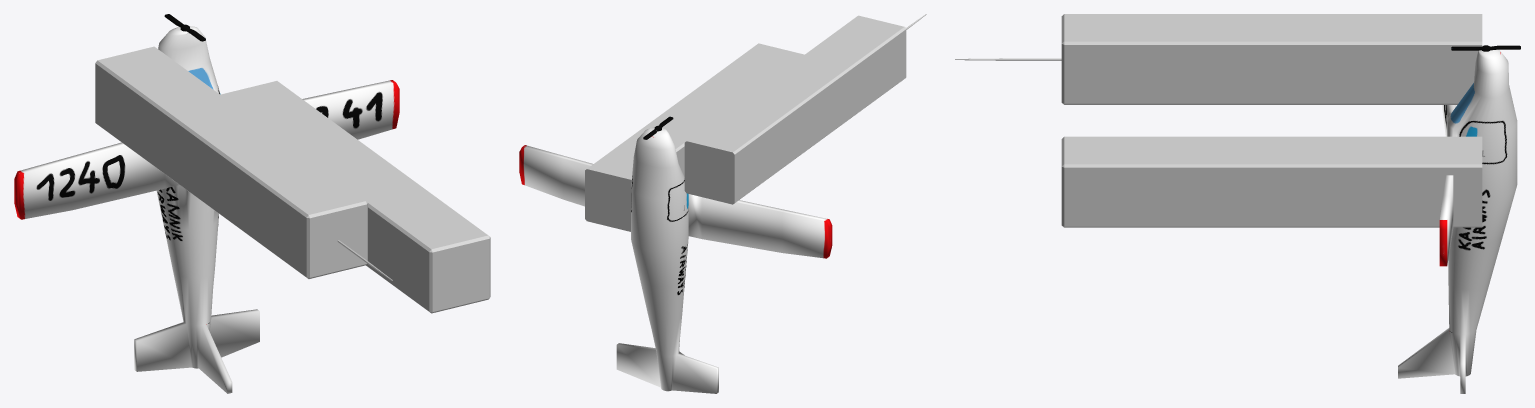
3 renders of one model, left to right at view 1: azimuth 30°, elevation 25°; view 2: azimuth 150°, elevation 25°; view 3: azimuth 270°, elevation 25°, orthographic. The views are drawn at different scales.
Visible parts, largest first — view 1: Cube.001, Plane, Cube; view 2: Plane, Cube.001, Cube; view 3: Cube, Cube.001, Plane.
Boxes of the visible parts, x1=… form: Cube.001: x1=95, y1=46, x2=392, y2=280; Plane: x1=14, y1=14, x2=399, y2=393; Cube: x1=220, y1=81, x2=490, y2=313; Plane: x1=519, y1=116, x2=832, y2=393; Cube.001: x1=684, y1=14, x2=926, y2=204; Cube: x1=585, y1=43, x2=804, y2=231; Cube: x1=1061, y1=136, x2=1482, y2=227; Cube.001: x1=955, y1=14, x2=1482, y2=104; Plane: x1=1398, y1=45, x2=1520, y2=393.
Bounding box in the file's own units: 12.43 × 10.43 × 16.14.
Materials: 1 (1 with a texture image).
